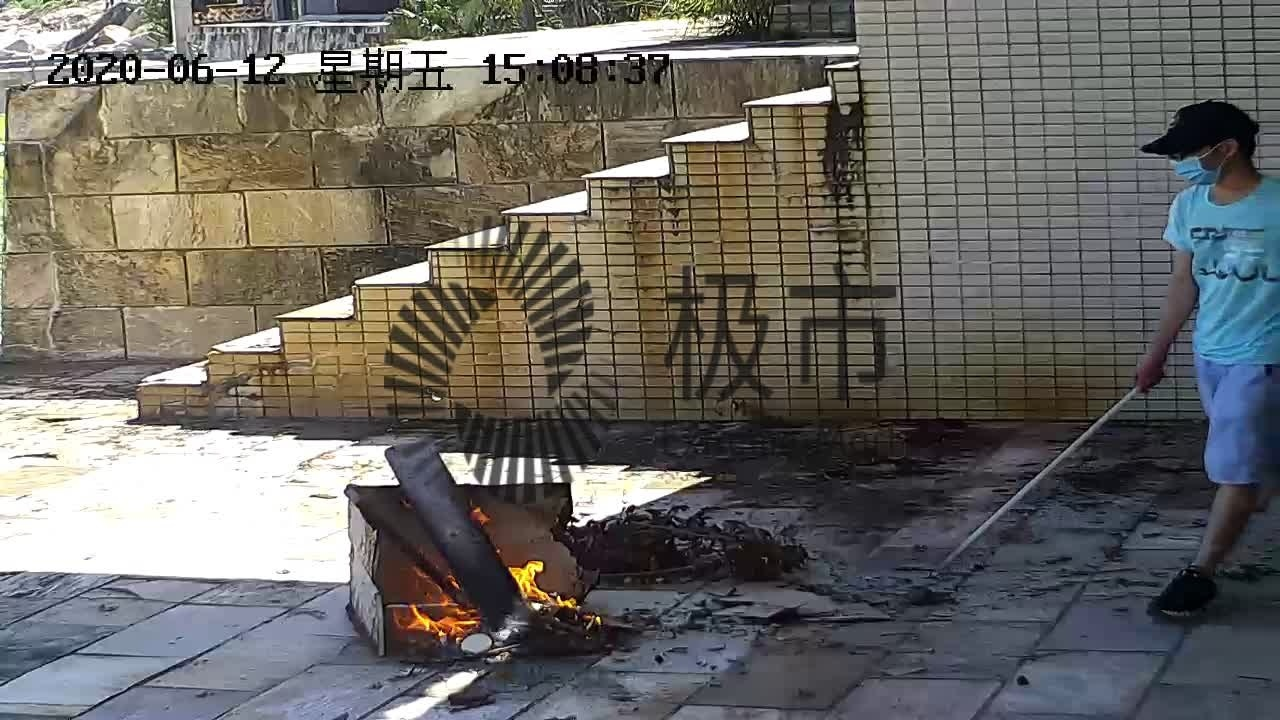fire: (394, 497, 594, 648)
